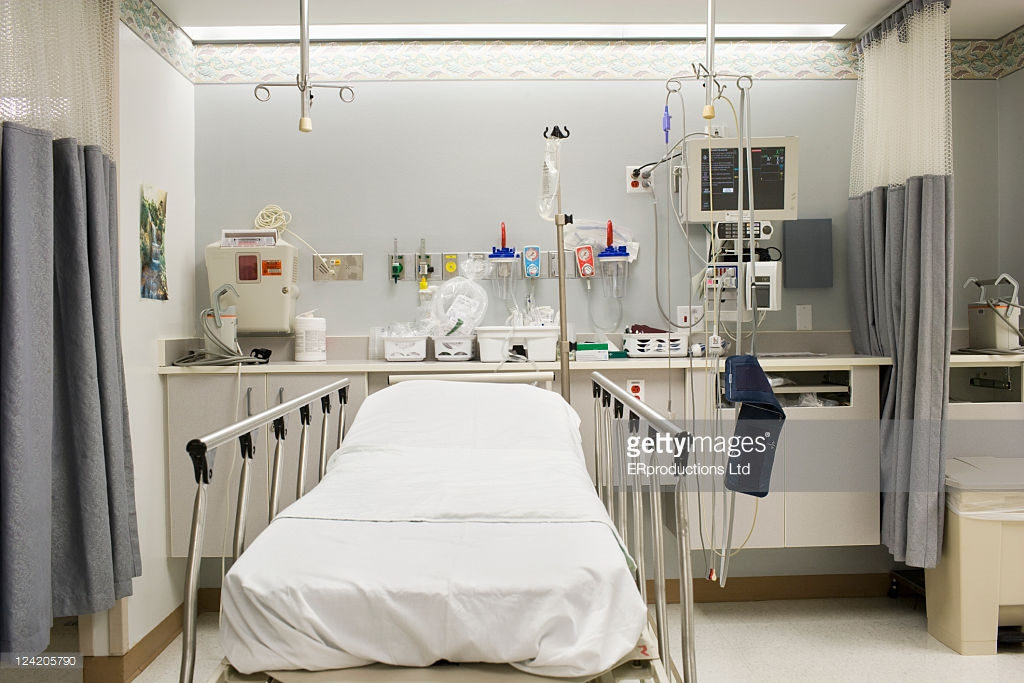hospital bed: (206, 362, 687, 668)
